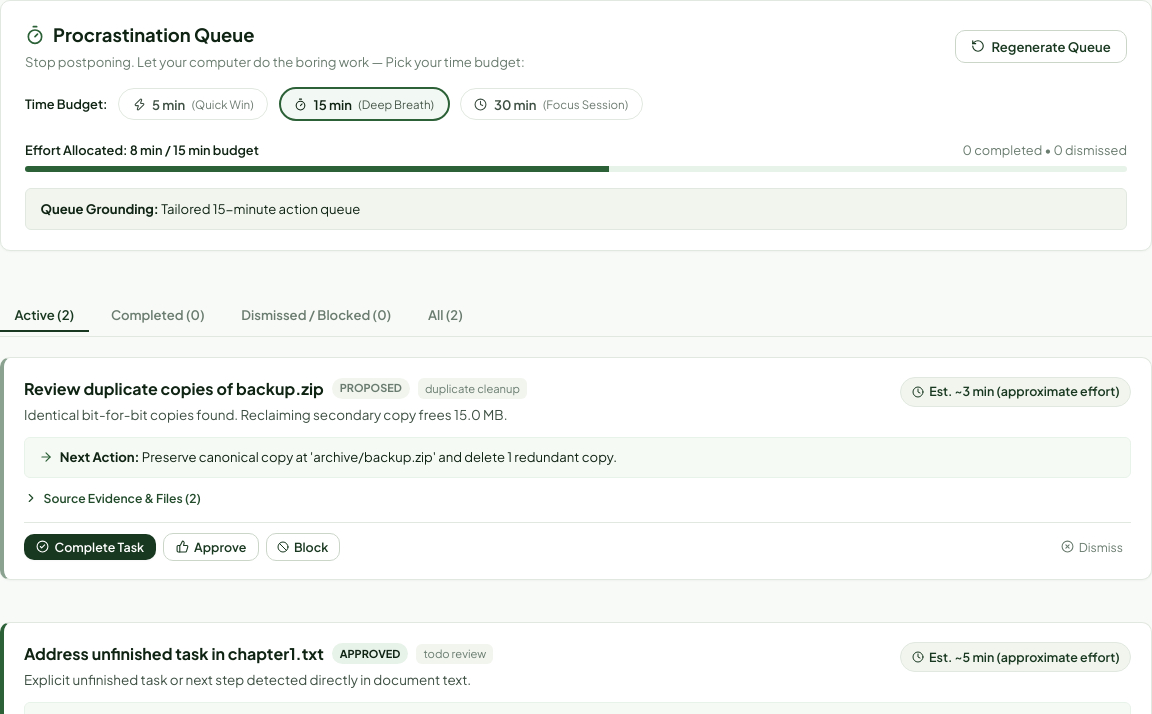
Test: ProcrastinationQueue Component › toggles expandable evidence and displays source files and quotes
The width and height of the screenshot is (1152, 714).
Click the button "Source Evidence & Files (2)": (112, 498) [24,490,201,506]
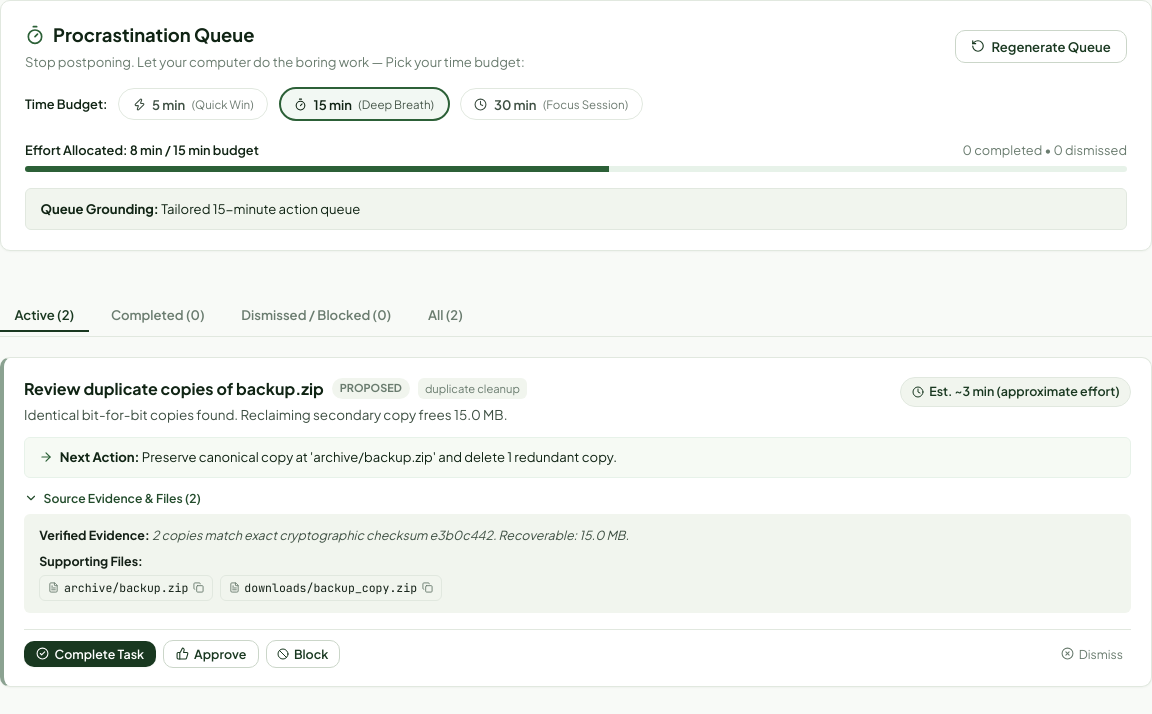
Expected: the text "2 copies match exact cryptographic checksum e3b0c442" is shown, [152,527,629,543]
Expected: the text "archive/backup.zip" is shown, [64,579,188,597]
Expected: the text "downloads/backup_copy.zip" is shown, [244,579,417,597]
